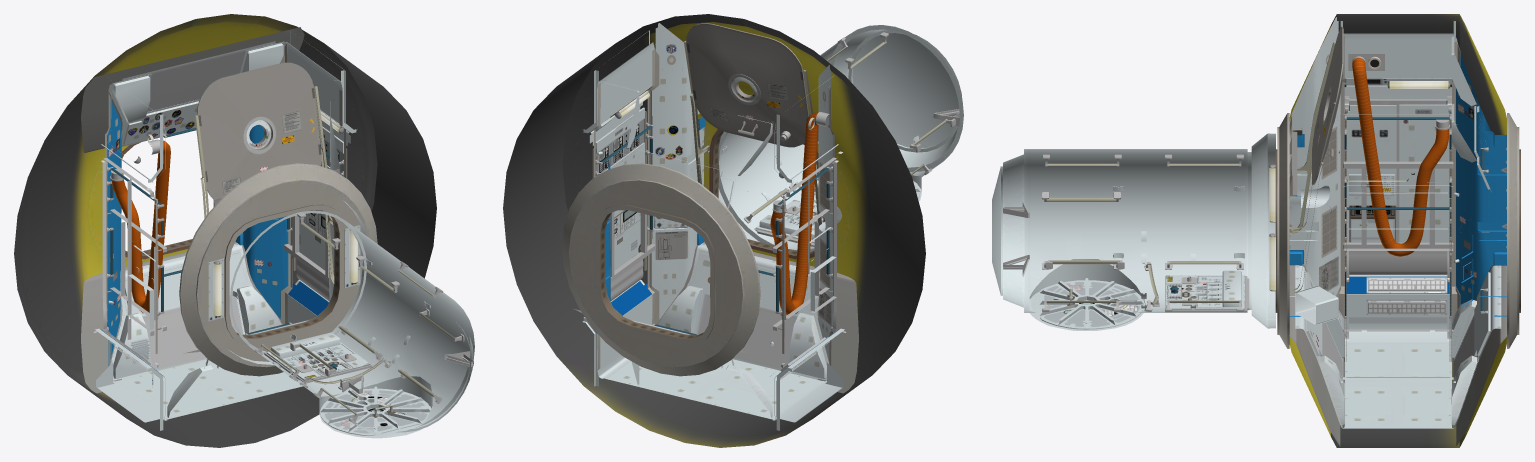
Rendered from iss-airlock.glb.
3 views of the same model, side by side, from view 1: azimuth 30°, elevation 25°; view 2: azimuth 150°, elevation 25°; view 3: azimuth 270°, elevation 25° (orthographic). The views are drawn at different scales.
Visible parts, largest first — view 1: Airlock_Int_Enclosure, Airlock_Int_Wall_Starboard, Airlock_Int_se_191_stowage_rack, Airlock_Int_Hatch_Stbd, Airlock_Int_Handles_Metallics, Airlock_Int_CrewLock_Simp_Door, Airlock_InsideLight, Airlock_Int_Lights_Illum.001, Airlock_Patches_Cutout; view 2: Airlock_Int_Enclosure, Airlock_Int_se_191_stowage_rack, Airlock_Int_Wall_Starboard, Airlock_Int_Hatch_Stbd, Airlock_Int_Handles_Metallics; view 3: Airlock_Int_Enclosure, Airlock_Int_se_191_stowage_rack, Airlock_Int_Wall_Starboard, Airlock_Int_Handles_Metallics, Airlock_Int_CrewLock_Simp_Door, Airlock_Int_Hatch_Stbd, Airlock_Int_Lights_Illum.001, Airlock_Int_Lights_Illum.
Part boxes in pixels (bbox=[...]): Airlock_Int_Enclosure: bbox=[14, 14, 474, 447]; Airlock_Int_Wall_Starboard: bbox=[105, 41, 345, 417]; Airlock_Int_se_191_stowage_rack: bbox=[93, 30, 357, 430]; Airlock_Int_Hatch_Stbd: bbox=[197, 62, 321, 199]; Airlock_Int_Handles_Metallics: bbox=[107, 86, 473, 424]; Airlock_Int_CrewLock_Simp_Door: bbox=[320, 386, 430, 435]; Airlock_InsideLight: bbox=[208, 225, 360, 321]; Airlock_Int_Lights_Illum.001: bbox=[213, 230, 357, 316]; Airlock_Patches_Cutout: bbox=[116, 99, 333, 150]; Airlock_Int_Enclosure: bbox=[503, 14, 963, 447]; Airlock_Int_se_191_stowage_rack: bbox=[582, 30, 846, 430]; Airlock_Int_Wall_Starboard: bbox=[594, 23, 842, 419]; Airlock_Int_Hatch_Stbd: bbox=[686, 23, 809, 147]; Airlock_Int_Handles_Metallics: bbox=[595, 32, 959, 334]; Airlock_Int_Enclosure: bbox=[992, 14, 1520, 447]; Airlock_Int_se_191_stowage_rack: bbox=[1340, 21, 1457, 428]; Airlock_Int_Wall_Starboard: bbox=[1289, 17, 1506, 428]; Airlock_Int_Handles_Metallics: bbox=[1003, 42, 1488, 335]; Airlock_Int_CrewLock_Simp_Door: bbox=[1040, 278, 1144, 329]; Airlock_Int_Hatch_Stbd: bbox=[1312, 27, 1343, 184]; Airlock_Int_Lights_Illum.001: bbox=[1269, 168, 1275, 290]; Airlock_Int_Lights_Illum: bbox=[1348, 81, 1448, 181].
Bounding box in the file's own units: 42.03 × 42.03 × 51.17.
5 materials, 5 textured.
